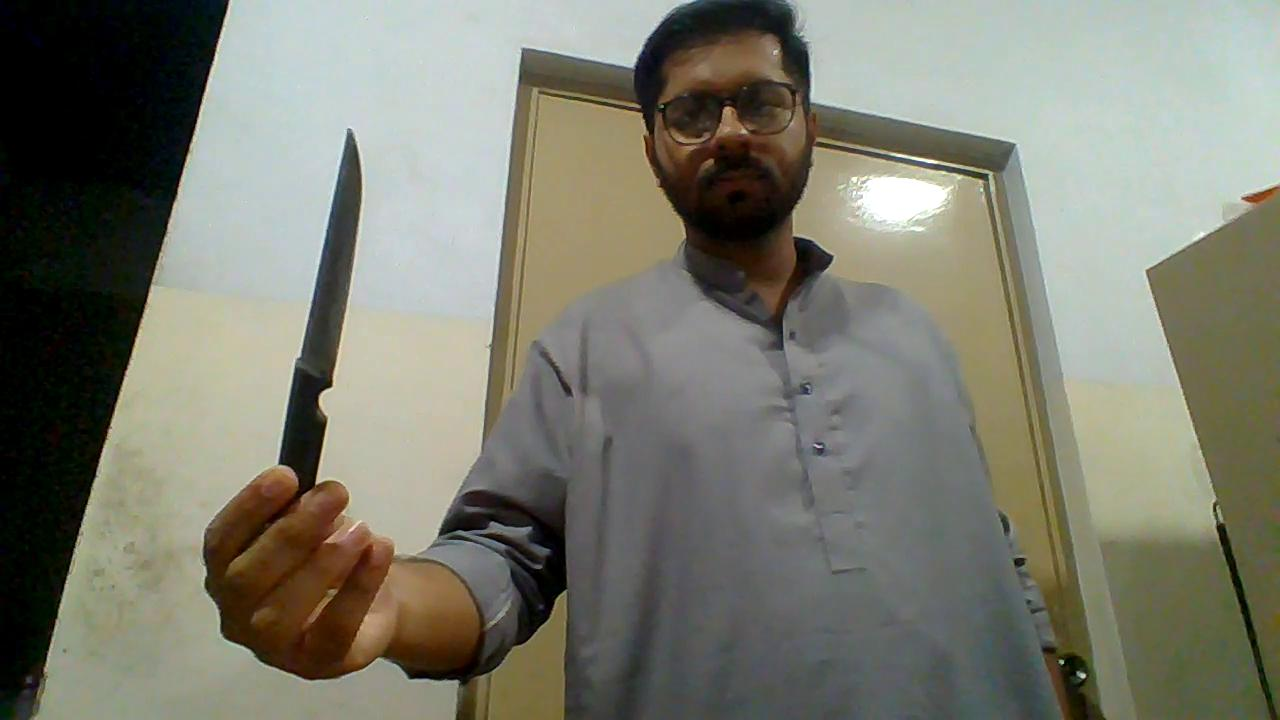criminal: (199, 0, 1072, 720)
weapon: (277, 122, 366, 497)
